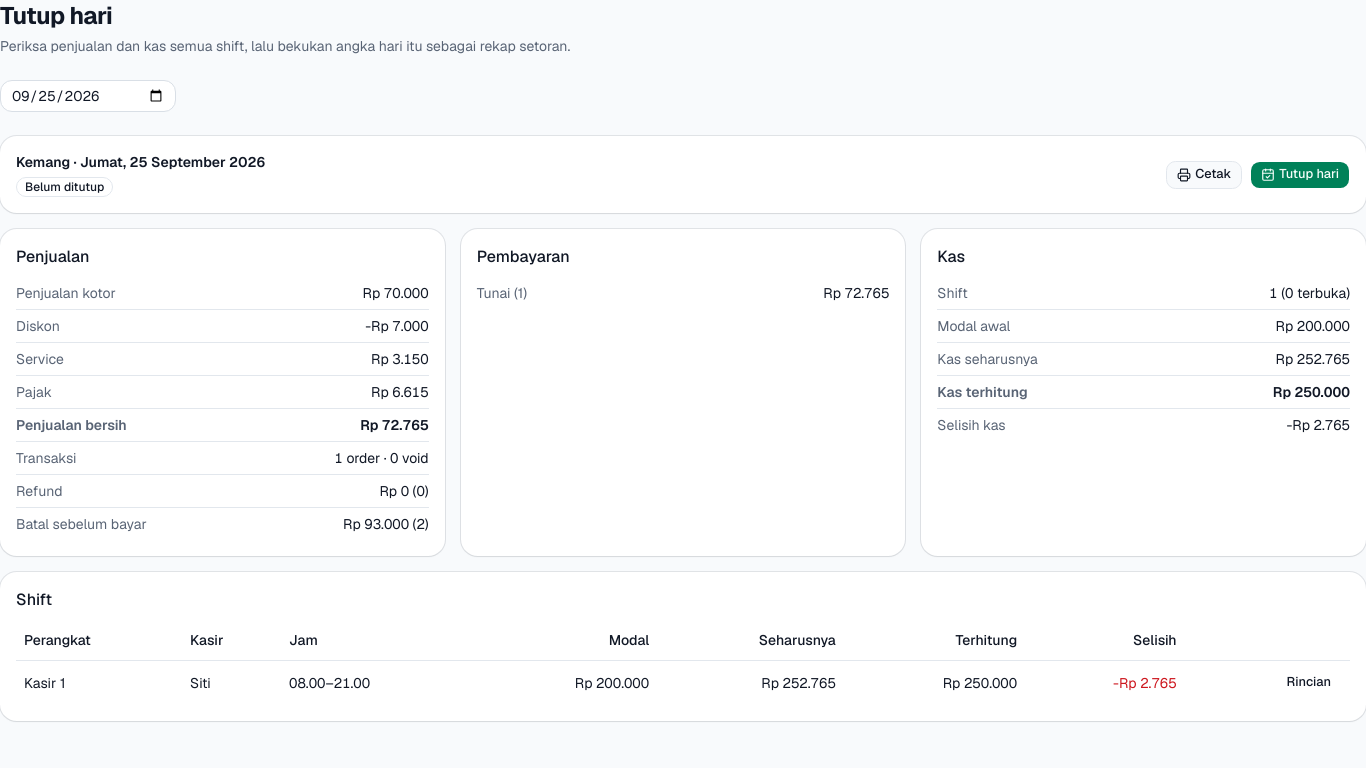
it: DayClosingScreen › says when a shift was closed without a count per denomination
Click the button with aria-label "Rincian shift Kasir 1" at (1309, 682), box [1276,668,1342,696]
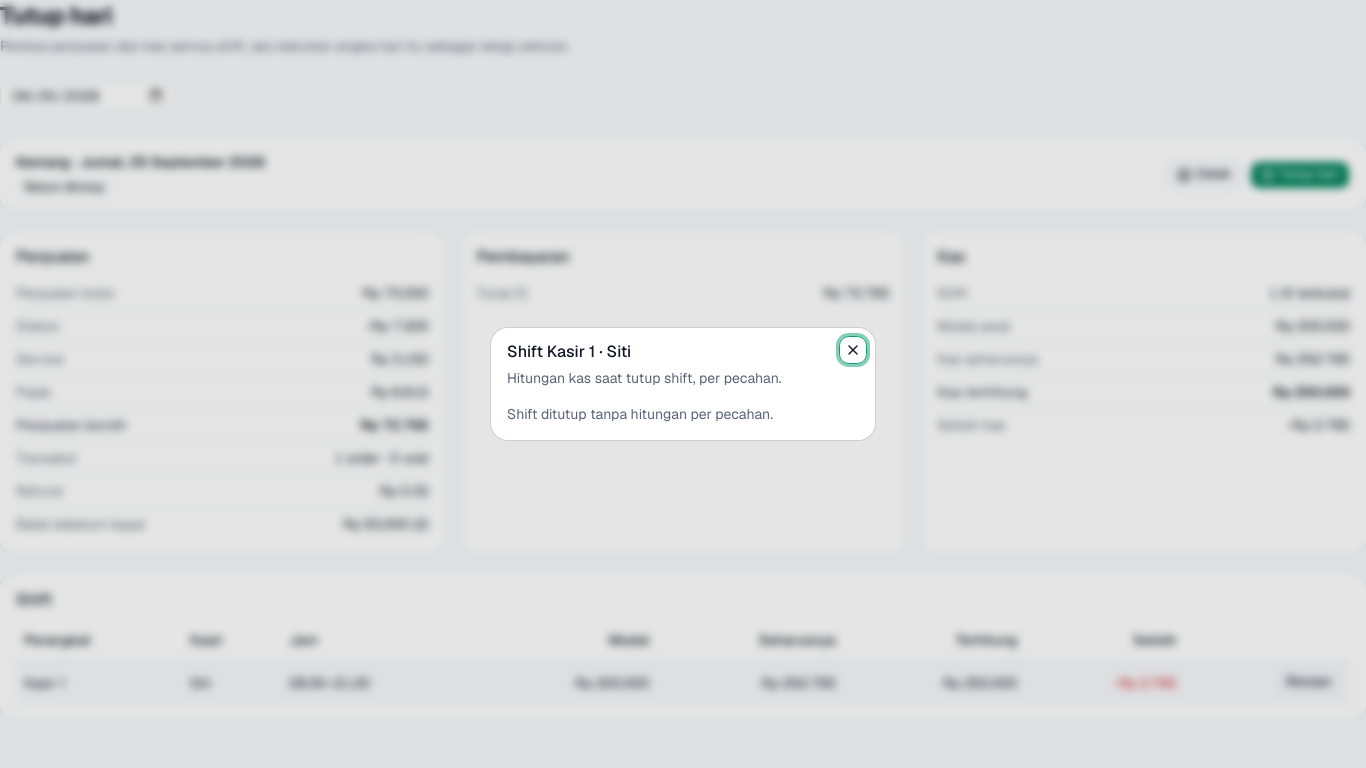
Now the text "Shift ditutup tanpa hitungan per pecahan." is shown, box [507,405,773,423]
